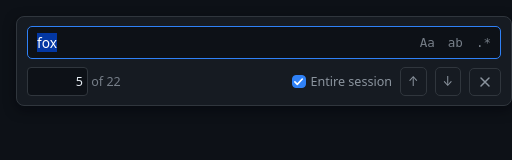
Test: going straight to a hit › clamps a number below the first to the first
This screenshot has width=512, height=160.
Replace the text in the field named "Match" with "0" at [58, 82], box [27,67,88,96]
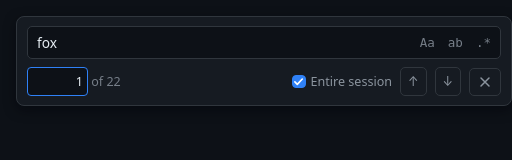
Expected: the field named "Match" holds "1", [27,67,88,96]
